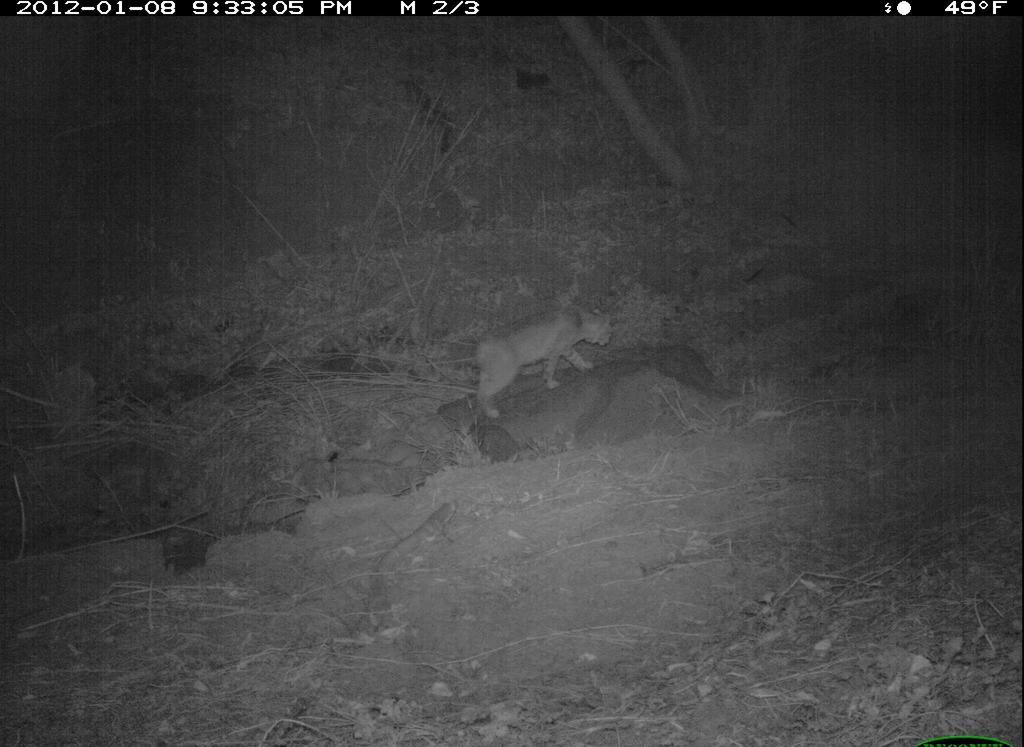bobcat: (456, 296, 629, 442)
